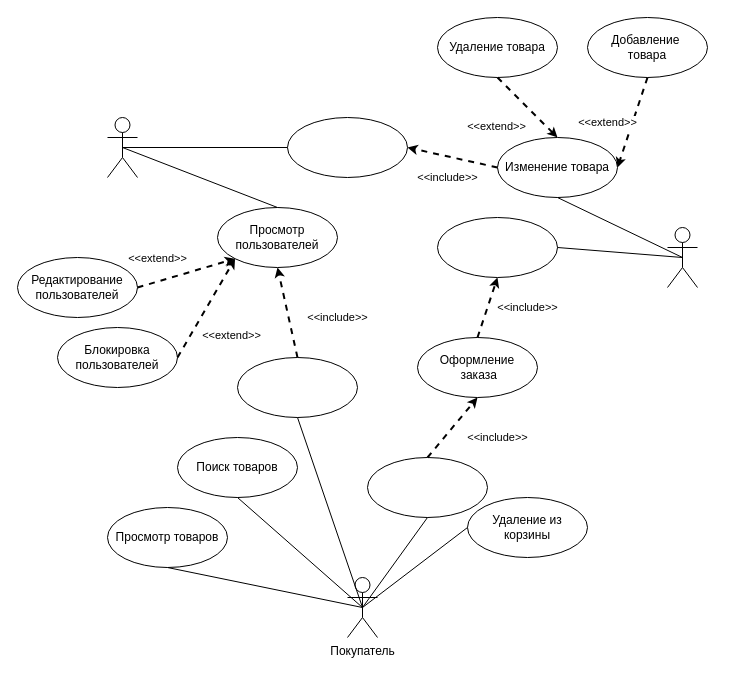
Image size: 729x691. Some labels were removed from this diagram. The shapes that lost their labels are listed below. From the top down, each one's box as (x1, y1, x2, y2) in pixels, then its label:
(106, 116, 138, 178): Администратор
(286, 116, 408, 178): Изменение категорий
(436, 216, 558, 278): Просмотр заказов
(666, 226, 698, 288): Менеджер
(236, 356, 358, 418): Авторизация
(366, 456, 488, 518): Добавление в корзину
